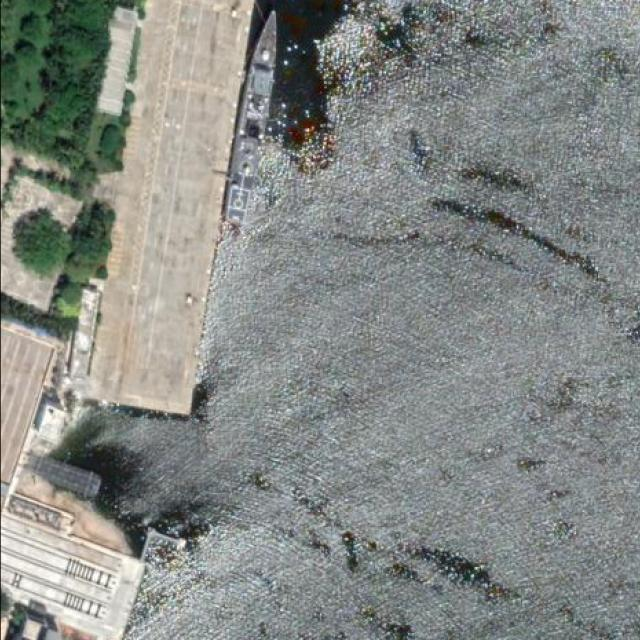Auxiliary Ships: (220, 7, 285, 226)
